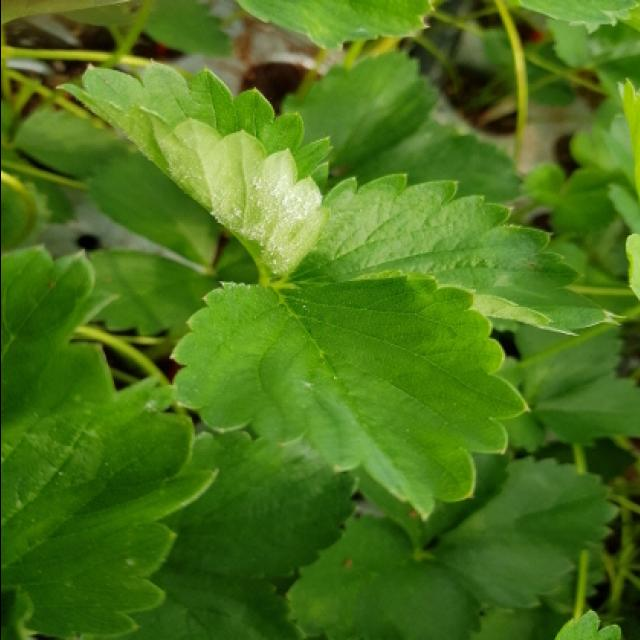Powdery Mildew Leaf: (55, 57, 331, 285)
